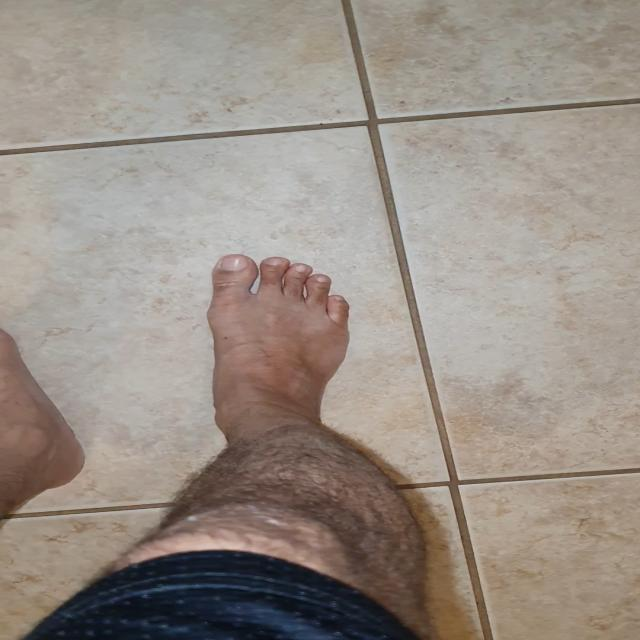no-boots: (202, 250, 370, 454), (0, 324, 91, 487)
